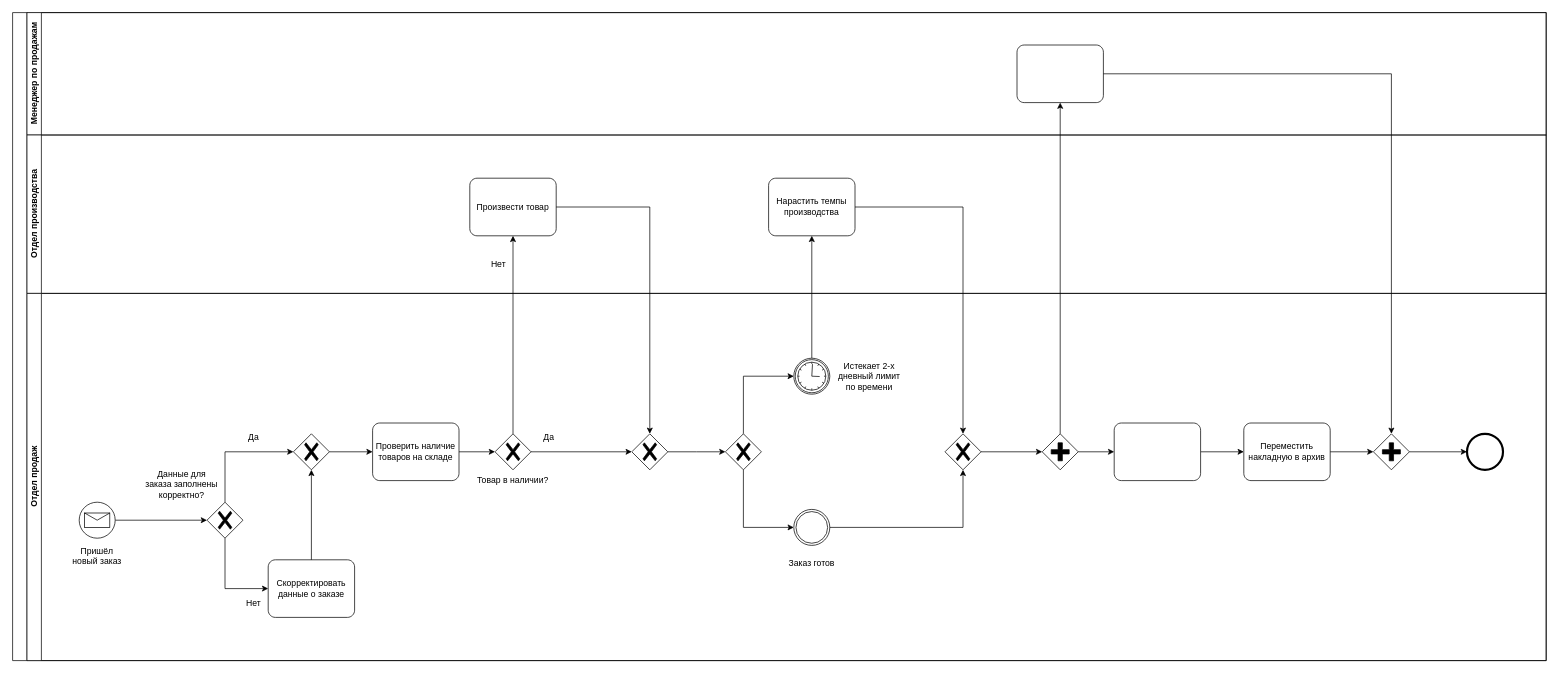
Image size: 1559x673. Some labels were removed from this diagram. The shapes that lost their labels are listed below. From the top down, each one's centre as x and y in pixels, then its label:
At [1059,73]: "Скорректировать отчёт по продажам".
At [1157,451]: "Организовать доставку".
